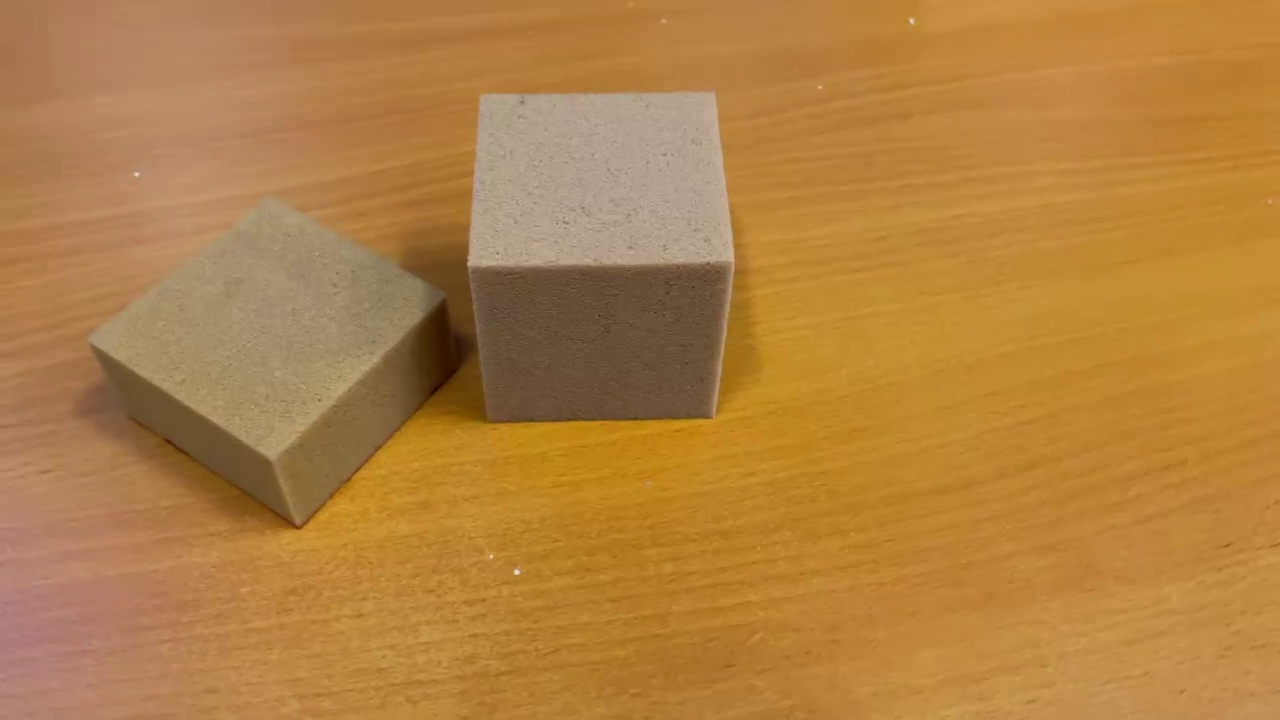Cube: (461, 82, 734, 425)
Cube_short: (83, 190, 463, 530)
